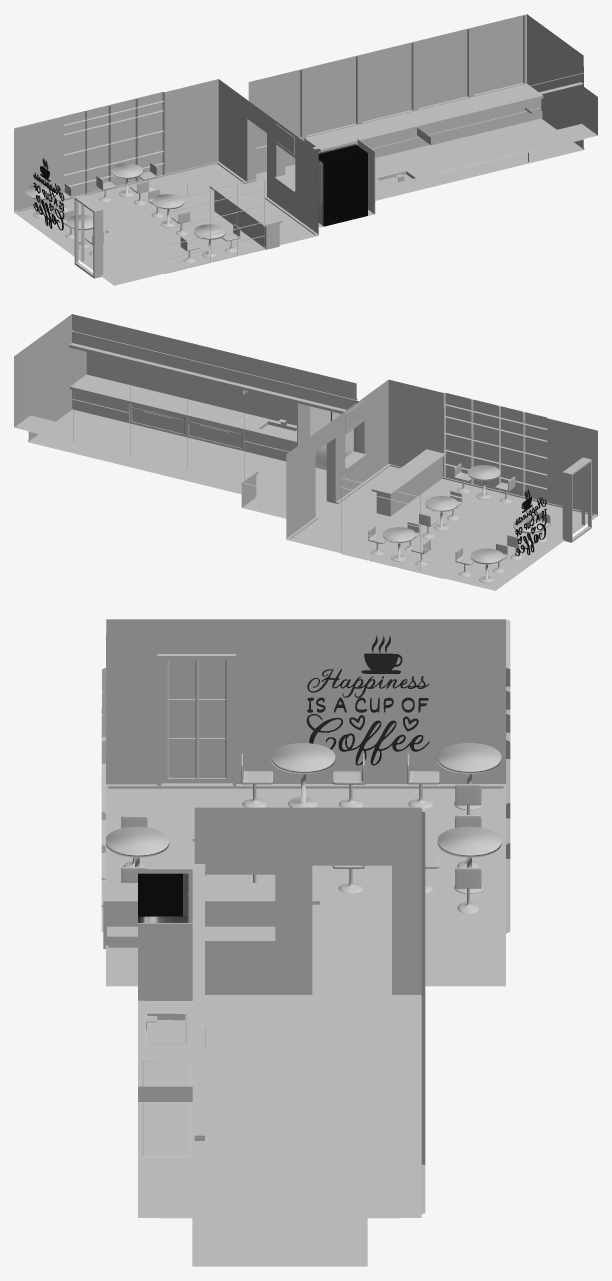
3 views of the same model, one above another, from view 1: azimuth 30°, elevation 25°; view 2: azimuth 150°, elevation 25°; view 3: azimuth 270°, elevation 25° (orthographic). The views are drawn at different scales.
Visible parts, largest first — view 1: SmallCafe, Fridge; view 2: SmallCafe, FDoorL; view 3: SmallCafe, Fridge.
Boxes of the visible parts, x1=… form: SmallCafe: x1=14, y1=14, x2=597, y2=285; Fridge: x1=318, y1=145, x2=367, y2=226; SmallCafe: x1=14, y1=314, x2=597, y2=590; FDoorL: x1=309, y1=406, x2=331, y2=470; SmallCafe: x1=101, y1=619, x2=510, y2=1266; Fridge: x1=138, y1=873, x2=182, y2=922.
Bounding box in the file's own units: 19.1 × 3.45 × 6.77.
